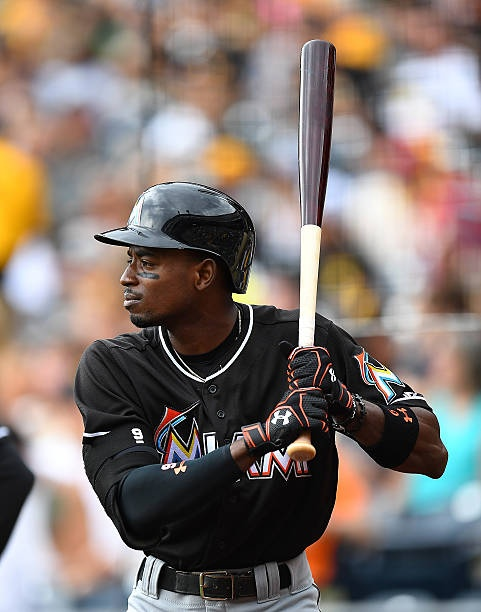bita: (282, 39, 346, 425)
